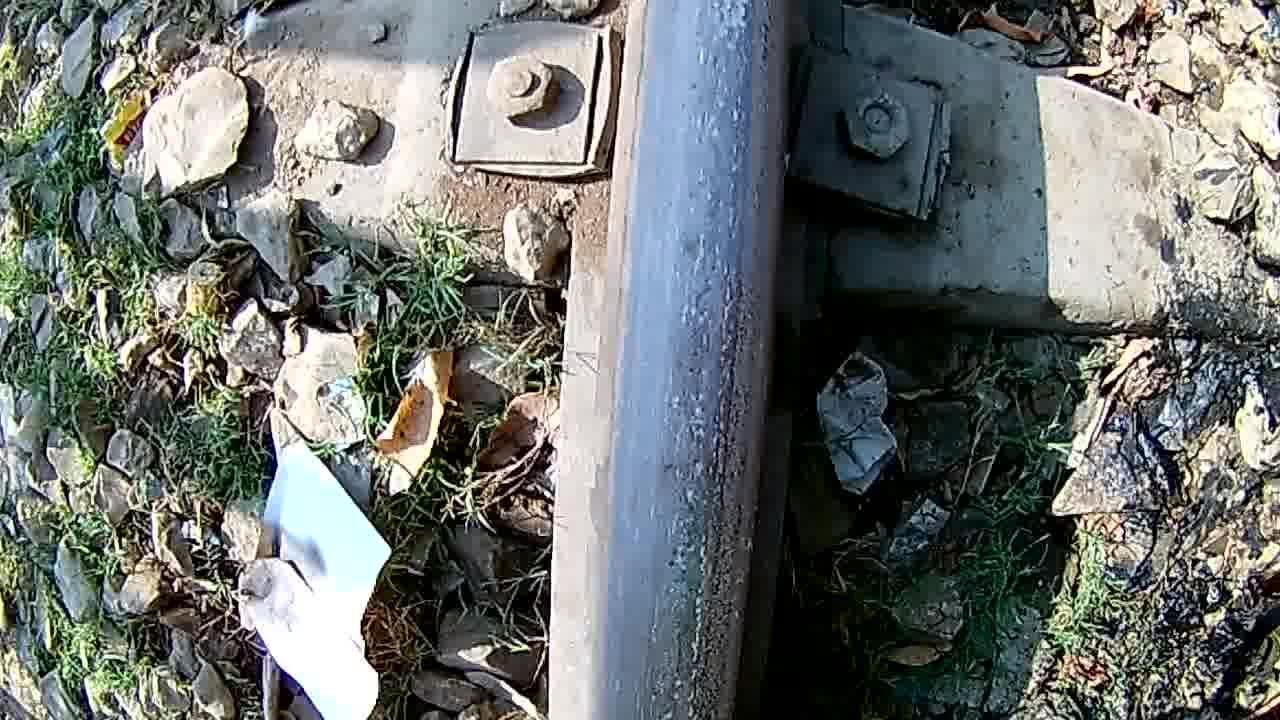crack: (643, 0, 754, 719)
